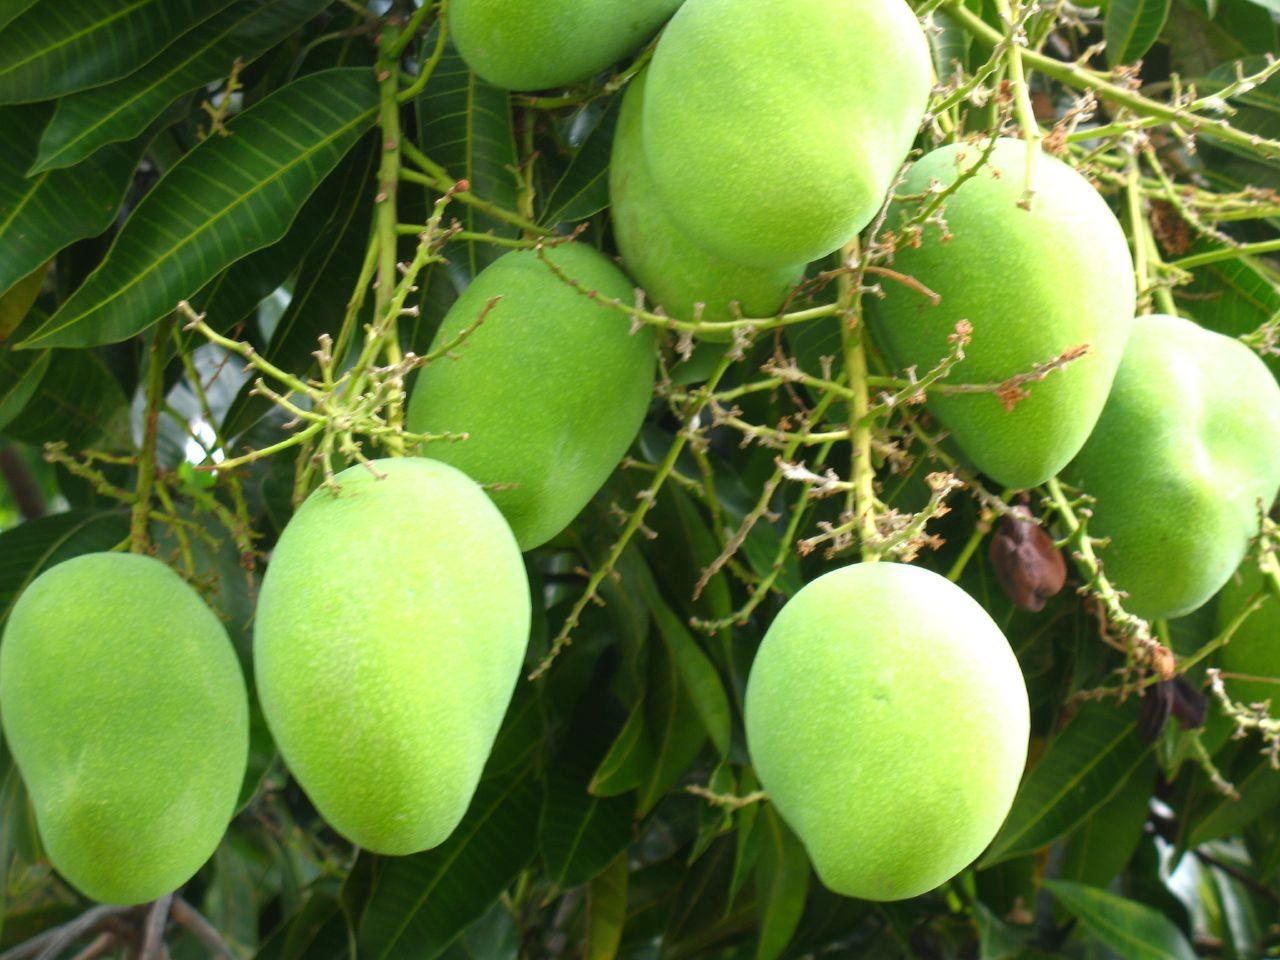mango: (233, 448, 536, 858), (743, 546, 1045, 940), (10, 551, 260, 938), (878, 133, 1134, 498), (625, 0, 943, 277)
